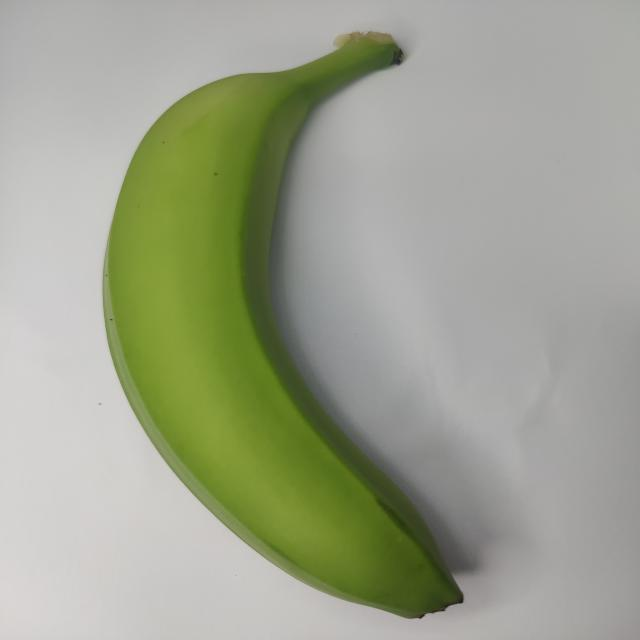raw: (57, 10, 542, 626)
